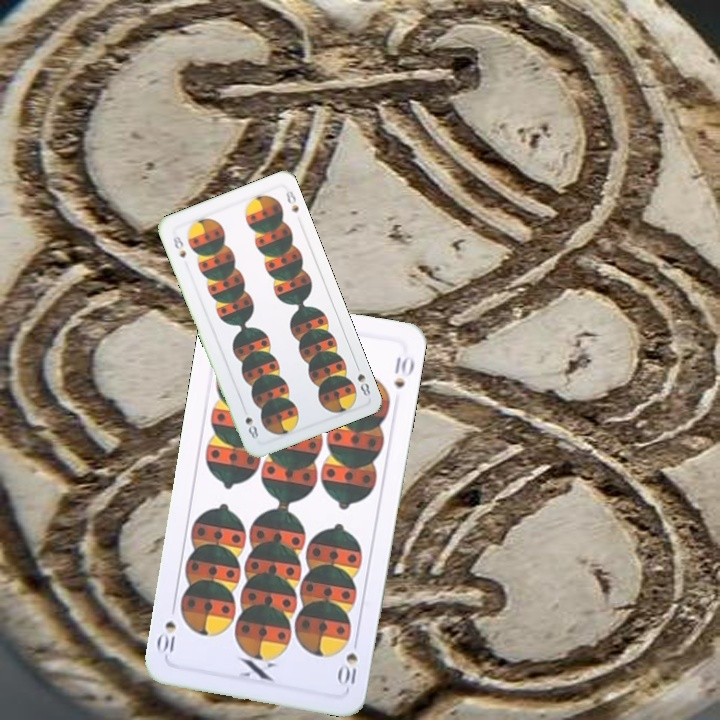S10: (335, 633, 361, 688)
S8: (351, 359, 373, 399), (169, 231, 189, 260)
